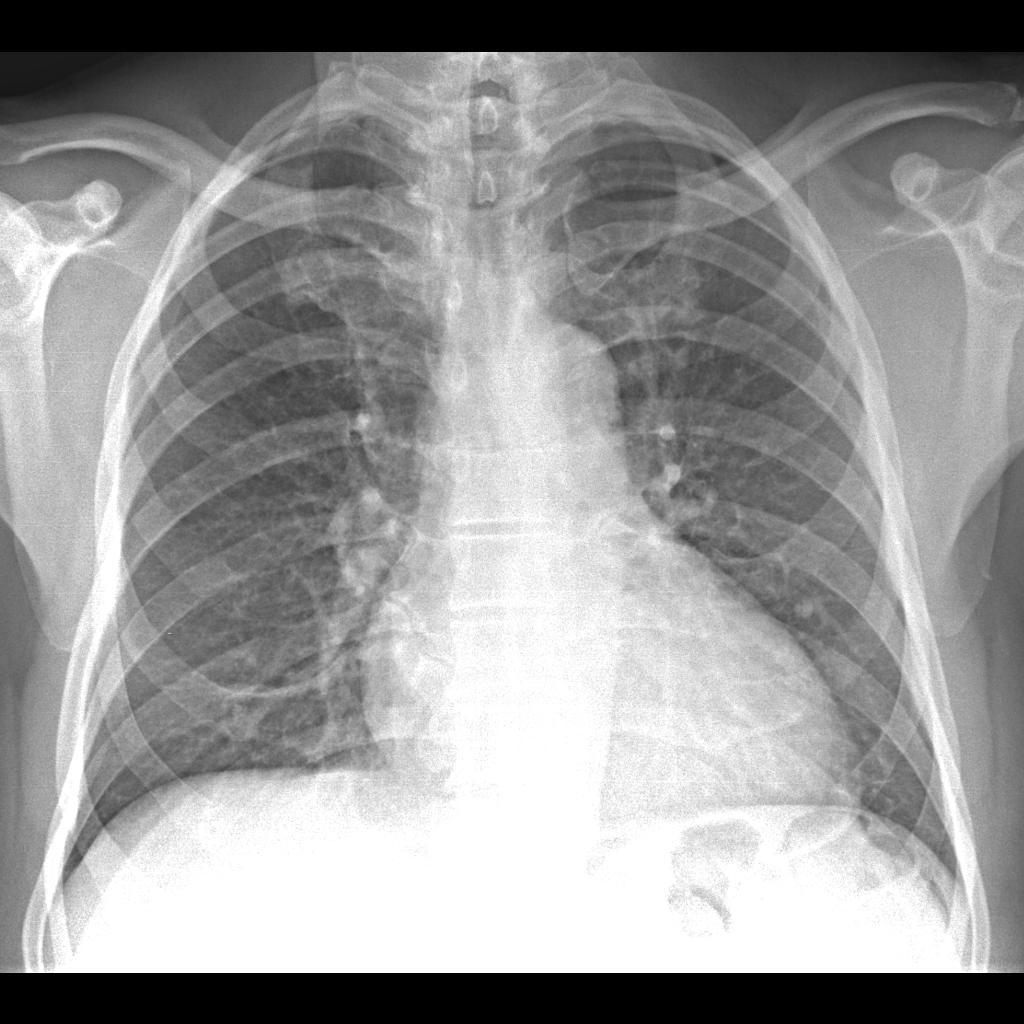Nodule: (790, 590, 819, 627)
